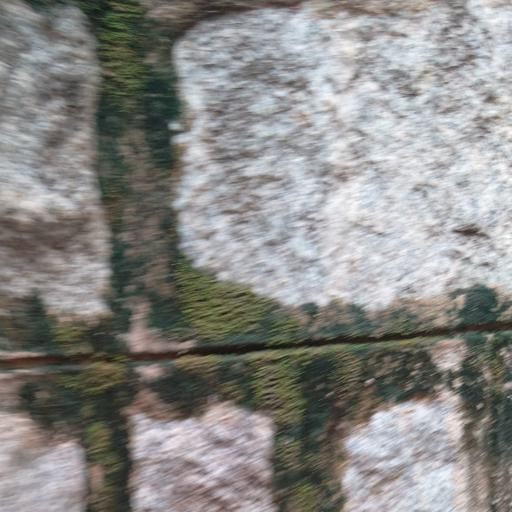algae: (38, 6, 512, 459)
